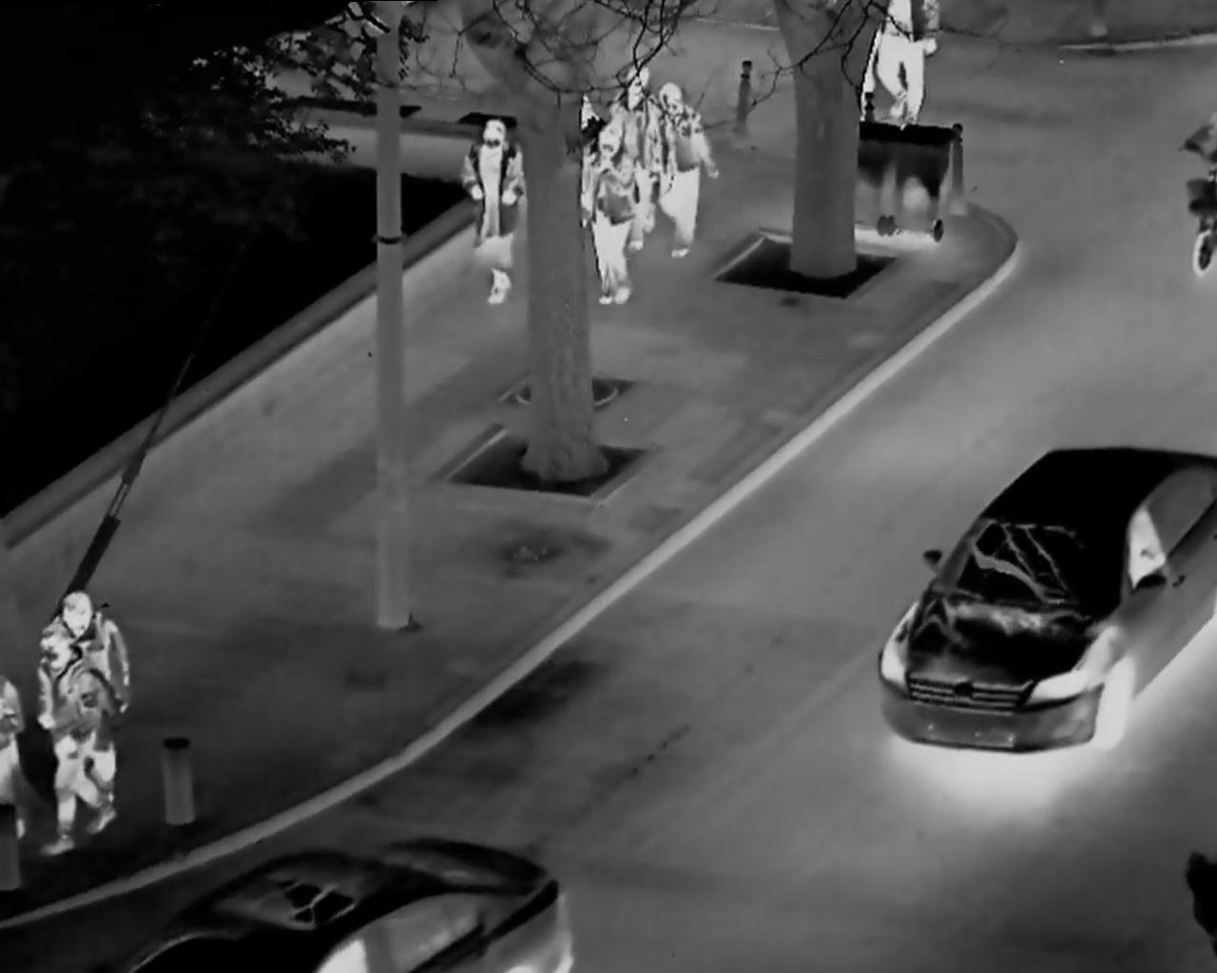person: (27, 614, 113, 855), (644, 78, 722, 263), (451, 100, 520, 296), (52, 582, 145, 724), (586, 121, 645, 300), (607, 55, 659, 234)
